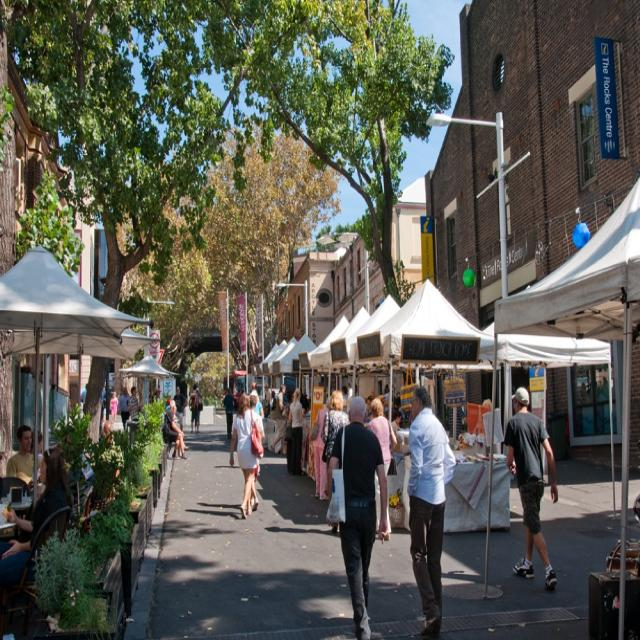body: (326, 395, 390, 640), (404, 381, 459, 639), (502, 383, 560, 591), (0, 444, 72, 583), (281, 377, 402, 424), (364, 396, 398, 541), (228, 388, 264, 518), (321, 388, 351, 536), (568, 370, 616, 440), (308, 394, 333, 503), (5, 423, 42, 486), (248, 392, 265, 513), (160, 398, 188, 460), (288, 386, 306, 476), (270, 382, 289, 458), (282, 389, 295, 474), (481, 398, 500, 456), (170, 404, 190, 456), (221, 386, 237, 440), (446, 404, 469, 441), (172, 386, 188, 432), (27, 426, 46, 461), (118, 386, 132, 432), (188, 382, 200, 434), (192, 382, 203, 434), (248, 388, 265, 420), (128, 386, 142, 423), (263, 389, 277, 424), (95, 382, 106, 423), (391, 412, 404, 444), (109, 391, 120, 424), (263, 382, 272, 419), (147, 384, 163, 404), (80, 382, 88, 417), (248, 393, 258, 414)
